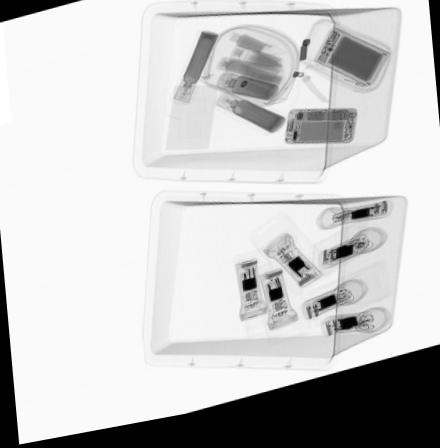Powerbank: (310, 37, 392, 105)
